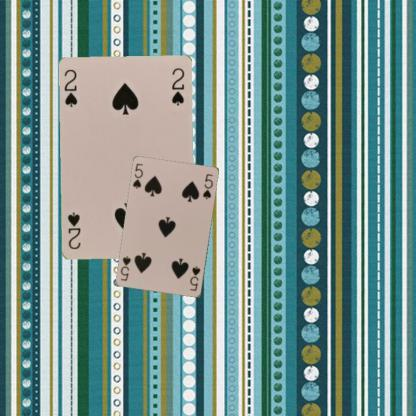2s: (62, 67, 80, 109)
5s: (187, 263, 202, 292), (130, 161, 144, 190)
